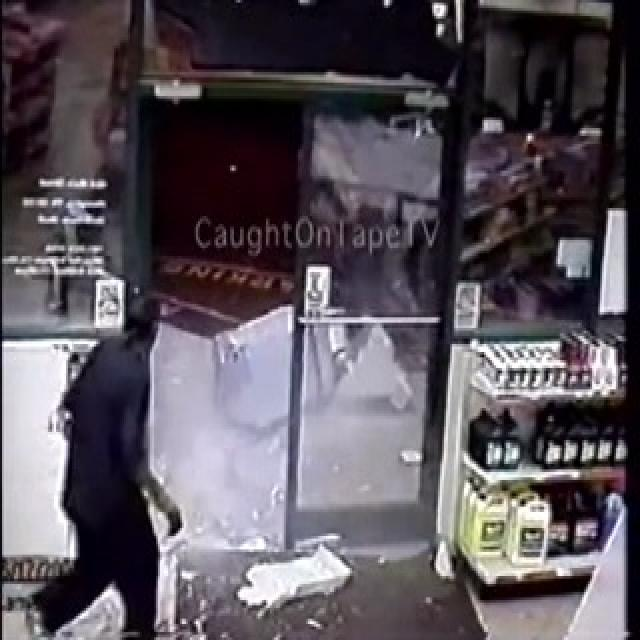thief: (70, 279, 260, 626)
